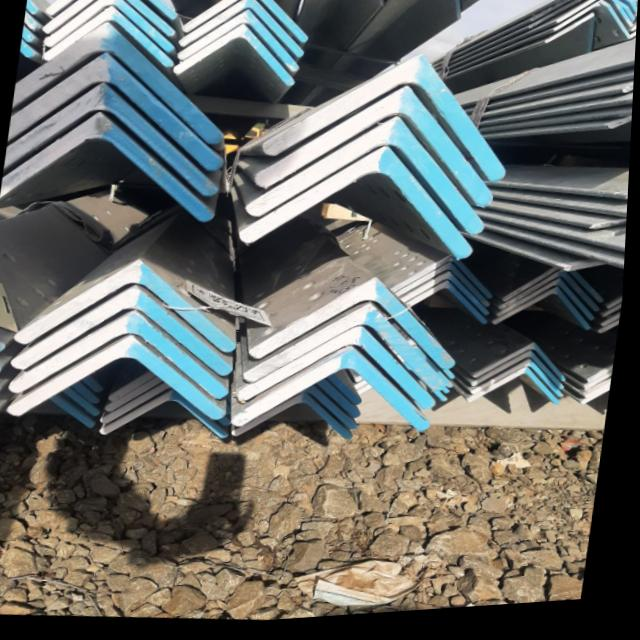metal-angles: (264, 60, 508, 190), (257, 91, 495, 213), (248, 122, 487, 241), (241, 151, 475, 265), (13, 23, 225, 147), (9, 54, 224, 173), (5, 83, 220, 198), (1, 113, 216, 224), (18, 262, 239, 355), (14, 288, 237, 379), (13, 313, 231, 402), (253, 282, 460, 374), (11, 337, 230, 423), (247, 309, 451, 396), (236, 352, 434, 437), (240, 332, 441, 415), (43, 7, 174, 69), (174, 27, 296, 90), (177, 13, 299, 76), (178, 0, 304, 60), (44, 0, 175, 54), (394, 261, 496, 305), (502, 277, 603, 320), (496, 294, 594, 338), (500, 286, 598, 329), (398, 269, 493, 313), (403, 277, 493, 322), (478, 349, 570, 389), (476, 358, 568, 397), (476, 366, 567, 405), (471, 375, 564, 413), (409, 287, 491, 330), (554, 7, 631, 47), (557, 0, 634, 35), (258, 0, 308, 45), (183, 0, 244, 34), (125, 0, 175, 38), (42, 0, 94, 34)
